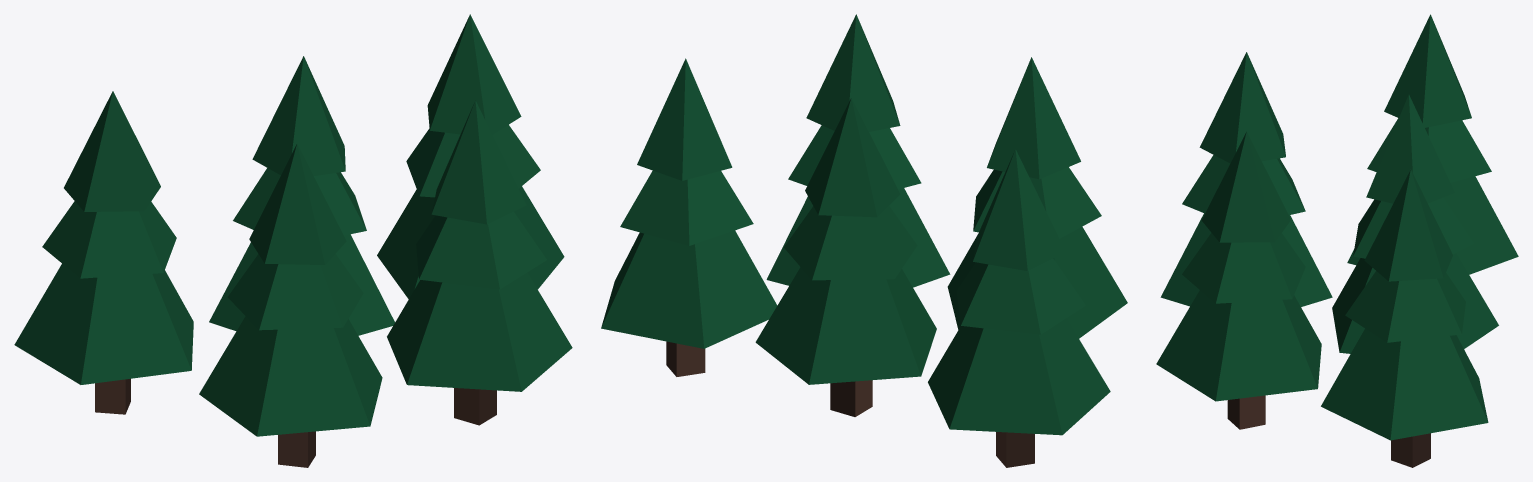
Rendered from TB_Env_TreeTB_A_Large.FBX.
The picture shows the model from 3 angles, left to right: view 1: azimuth 30°, elevation 25°; view 2: azimuth 150°, elevation 25°; view 3: azimuth 270°, elevation 25°; orthographic projection. The views are drawn at different scales.
Visible parts, largest first — view 1: TB_Env_TreeTB_A_Large; view 2: TB_Env_TreeTB_A_Large; view 3: TB_Env_TreeTB_A_Large.
Part boxes in pixels (bbox=[...]): TB_Env_TreeTB_A_Large: bbox=[14, 14, 572, 467]; TB_Env_TreeTB_A_Large: bbox=[601, 14, 1127, 467]; TB_Env_TreeTB_A_Large: bbox=[1156, 14, 1518, 467].
Size of the model in its own units: 9.54 by 5.74 by 6.49.
